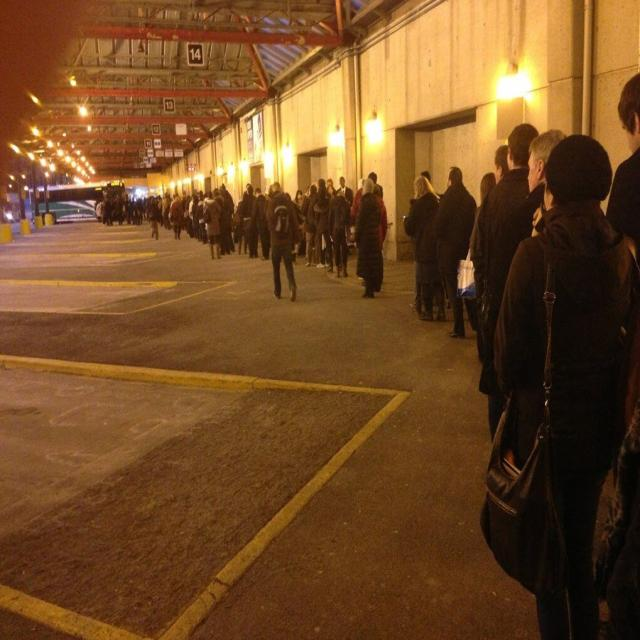body: (477, 133, 639, 639), (586, 68, 640, 640), (477, 121, 543, 446), (467, 121, 541, 309), (430, 164, 482, 342), (402, 174, 448, 322), (265, 179, 302, 302), (354, 176, 381, 299), (308, 178, 332, 269), (328, 189, 352, 279), (93, 188, 146, 227), (372, 182, 389, 287), (301, 183, 318, 268), (203, 190, 222, 262), (254, 186, 272, 261), (334, 176, 354, 242), (218, 182, 235, 257), (182, 188, 204, 242), (241, 184, 256, 256), (474, 172, 496, 220), (168, 195, 185, 241), (236, 191, 248, 256), (146, 201, 160, 241), (368, 171, 384, 200), (158, 204, 170, 232), (292, 189, 305, 211), (151, 191, 171, 205), (325, 177, 337, 195), (204, 186, 218, 201), (326, 184, 338, 200), (146, 194, 152, 223), (419, 171, 432, 184), (171, 192, 181, 202), (268, 183, 273, 193), (245, 182, 250, 190)
